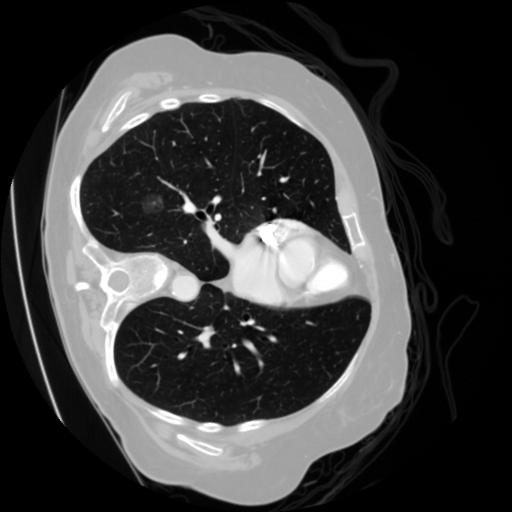nodule: (138, 188, 170, 220)
